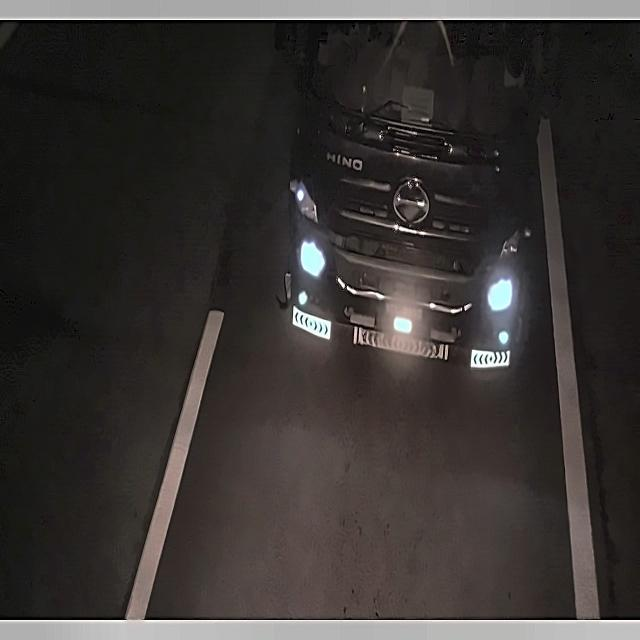car: (382, 291, 430, 328)
